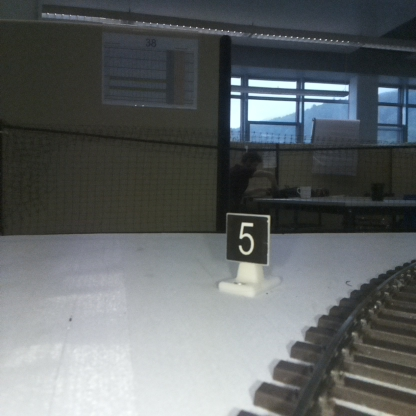black-stop-5: (227, 214, 268, 293)
